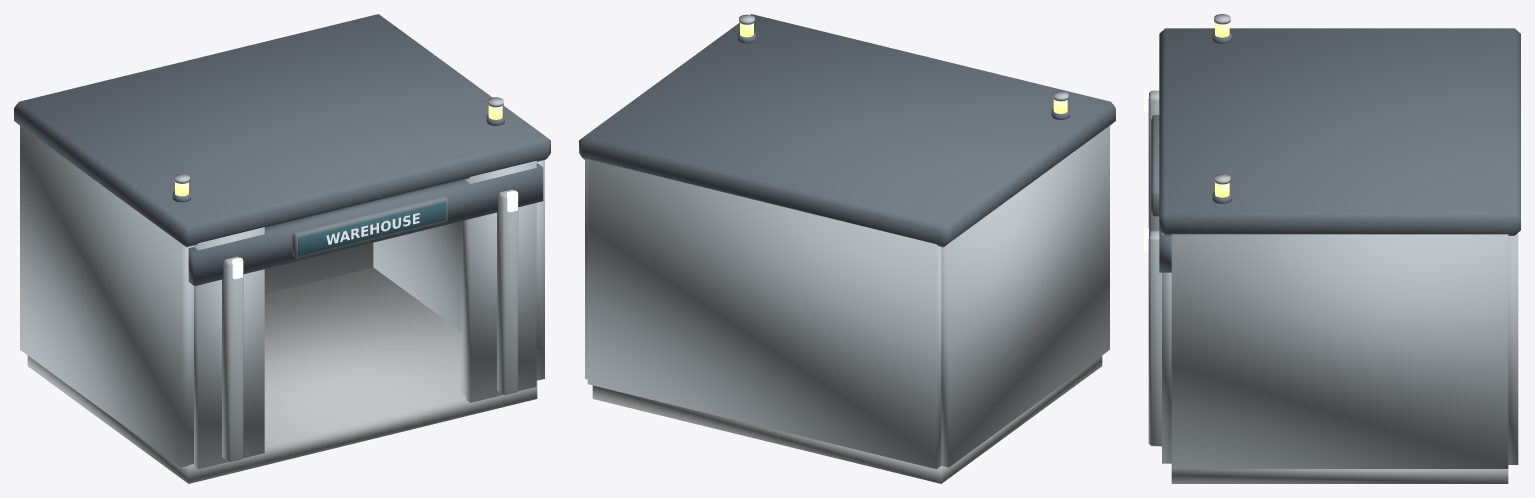
Rendered from warehouse_standard.glb.
3 renders of one model, left to right at view 1: azimuth 30°, elevation 25°; view 2: azimuth 150°, elevation 25°; view 3: azimuth 270°, elevation 25°, orthographic. The views are drawn at different scales.
Parts seen in each view (by area): view 1: Roof_dark_legacy_2, Wall_steel_legacy_1, Foundation_concrete_legacy_0, FrontFrame_steel_legacy_3, Header_dark_legacy_4, PortalTrim_steel_legacy_13, SignPlate_glass, ScreenMount_frame, TypeLabel_white; view 2: Wall_steel_legacy_1, Roof_dark_legacy_2, Foundation_concrete_legacy_0; view 3: Wall_steel_legacy_1, Roof_dark_legacy_2, Foundation_concrete_legacy_0, PortalTrim_steel_legacy_13, FrontFrame_steel_legacy_3, ScreenMount_frame, Header_dark_legacy_4, StatusLight_warn_legacy_10.
Boxes of the visible parts, <box> form: Roof_dark_legacy_2: <box>14,14,550,247</box>; Wall_steel_legacy_1: <box>20,125,544,467</box>; Foundation_concrete_legacy_0: <box>27,267,537,483</box>; FrontFrame_steel_legacy_3: <box>194,160,536,469</box>; Header_dark_legacy_4: <box>188,163,543,285</box>; PortalTrim_steel_legacy_13: <box>222,189,518,462</box>; SignPlate_glass: <box>298,201,446,255</box>; ScreenMount_frame: <box>292,196,447,258</box>; TypeLabel_white: <box>326,213,419,244</box>; Wall_steel_legacy_1: <box>585,125,1109,469</box>; Roof_dark_legacy_2: <box>579,14,1115,247</box>; Foundation_concrete_legacy_0: <box>592,356,1102,483</box>; Wall_steel_legacy_1: <box>1171,233,1518,468</box>; Roof_dark_legacy_2: <box>1159,28,1520,235</box>; Foundation_concrete_legacy_0: <box>1171,469,1508,483</box>; PortalTrim_steel_legacy_13: <box>1148,90,1161,446</box>; FrontFrame_steel_legacy_3: <box>1162,233,1171,463</box>; ScreenMount_frame: <box>1152,115,1159,216</box>; Header_dark_legacy_4: <box>1159,230,1171,272</box>; StatusLight_warn_legacy_10: <box>1215,23,1229,197</box>.
Bounding box in the file's own units: 5.3 × 3.9 × 4.48.
